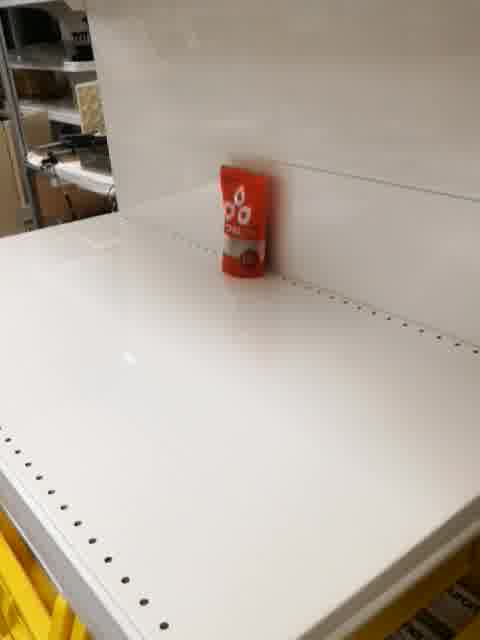whitechia: (216, 163, 278, 282)
